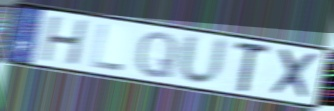H: (37, 15, 91, 68)
L: (90, 22, 124, 73)
Q: (133, 29, 181, 79)
T: (232, 41, 274, 94)
U: (176, 31, 230, 88)
X: (268, 46, 321, 103)
